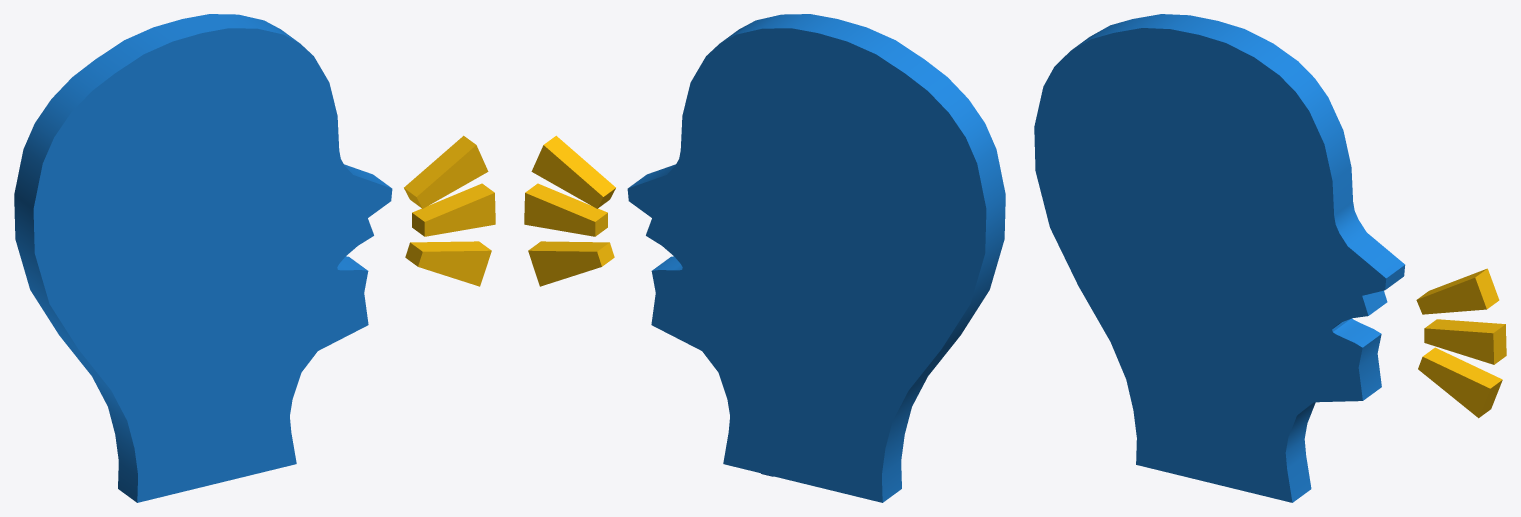
File: speaking_head.fbx
The picture shows the model from 3 angles, left to right: view 1: azimuth 30°, elevation 25°; view 2: azimuth 150°, elevation 25°; view 3: azimuth 330°, elevation 25°; orthographic projection.
Parts seen in each view (by area): view 1: Speaking Head; view 2: Speaking Head; view 3: Speaking Head.
Part boxes in pixels (x1,y1,x2,y2): Speaking Head: [14, 14, 495, 502]; Speaking Head: [524, 14, 1005, 502]; Speaking Head: [1034, 14, 1506, 502].
Size of the model in its own units: 194 by 182 by 14.
1 material, 1 textured.
